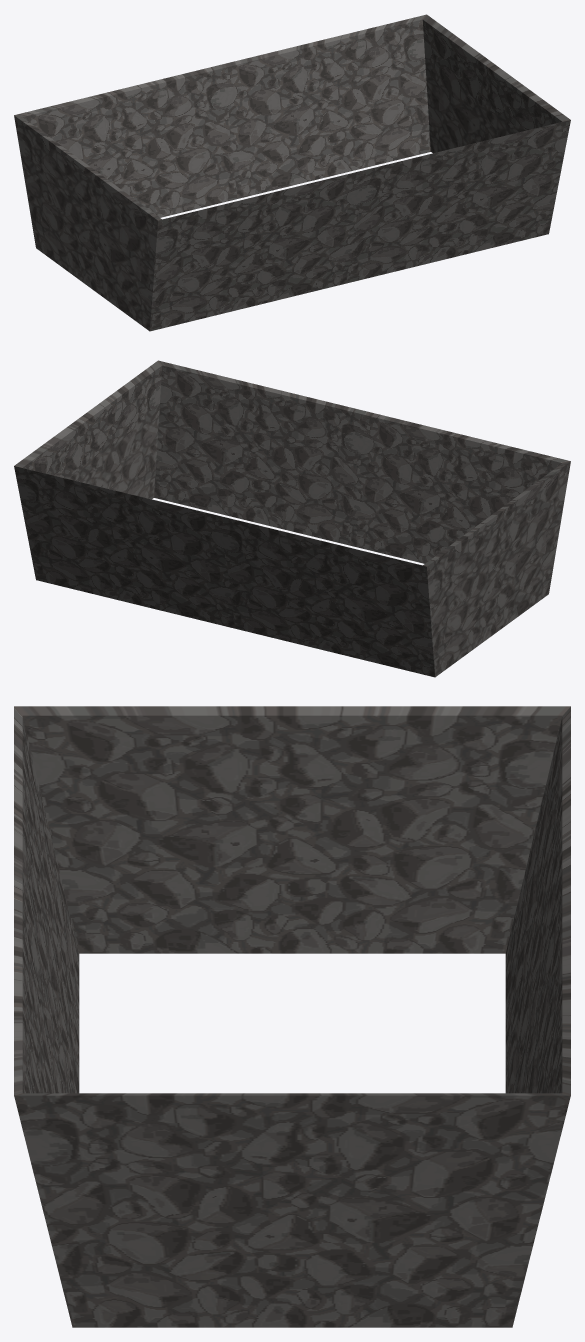
The model's file is Paredes.glb.
The picture shows the model from 3 angles, top to bottom: view 1: azimuth 30°, elevation 25°; view 2: azimuth 150°, elevation 25°; view 3: azimuth 270°, elevation 25°; orthographic projection. The views are drawn at different scales.
Parts seen in each view (by area): view 1: Paredes; view 2: Paredes; view 3: Paredes.
Boxes of the visible parts, x1,y1,x2,y2 form: Paredes: [14, 14, 570, 331]; Paredes: [14, 360, 570, 677]; Paredes: [14, 706, 570, 1327].
Bounding box in the file's own units: 10.4 × 2.97 × 6.29.
1 material, 1 textured.
